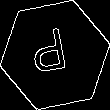P_S: (33, 27, 77, 83)
